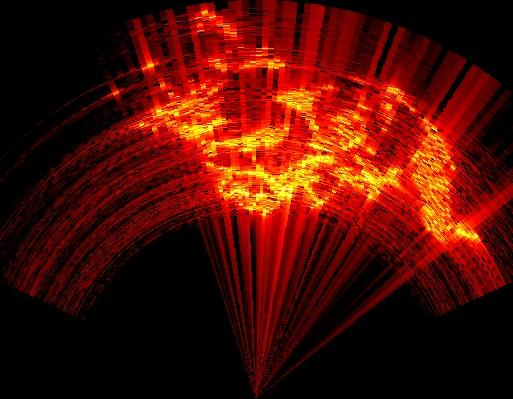shipwreck: (411, 131, 478, 242), (219, 156, 332, 213), (273, 91, 369, 154), (135, 95, 225, 136), (202, 128, 288, 163), (341, 155, 404, 200), (343, 133, 362, 148)
